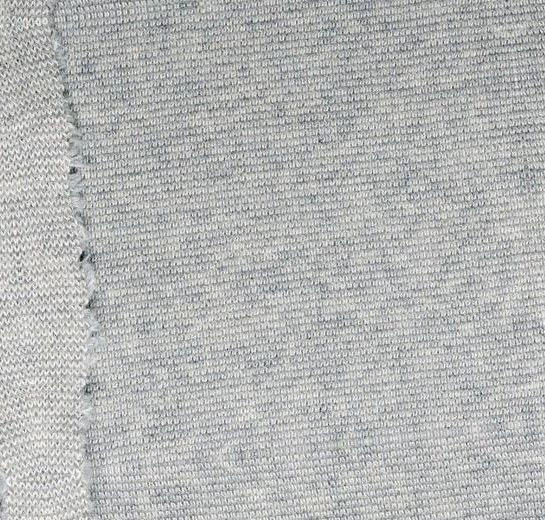slub: (43, 1, 120, 517)
